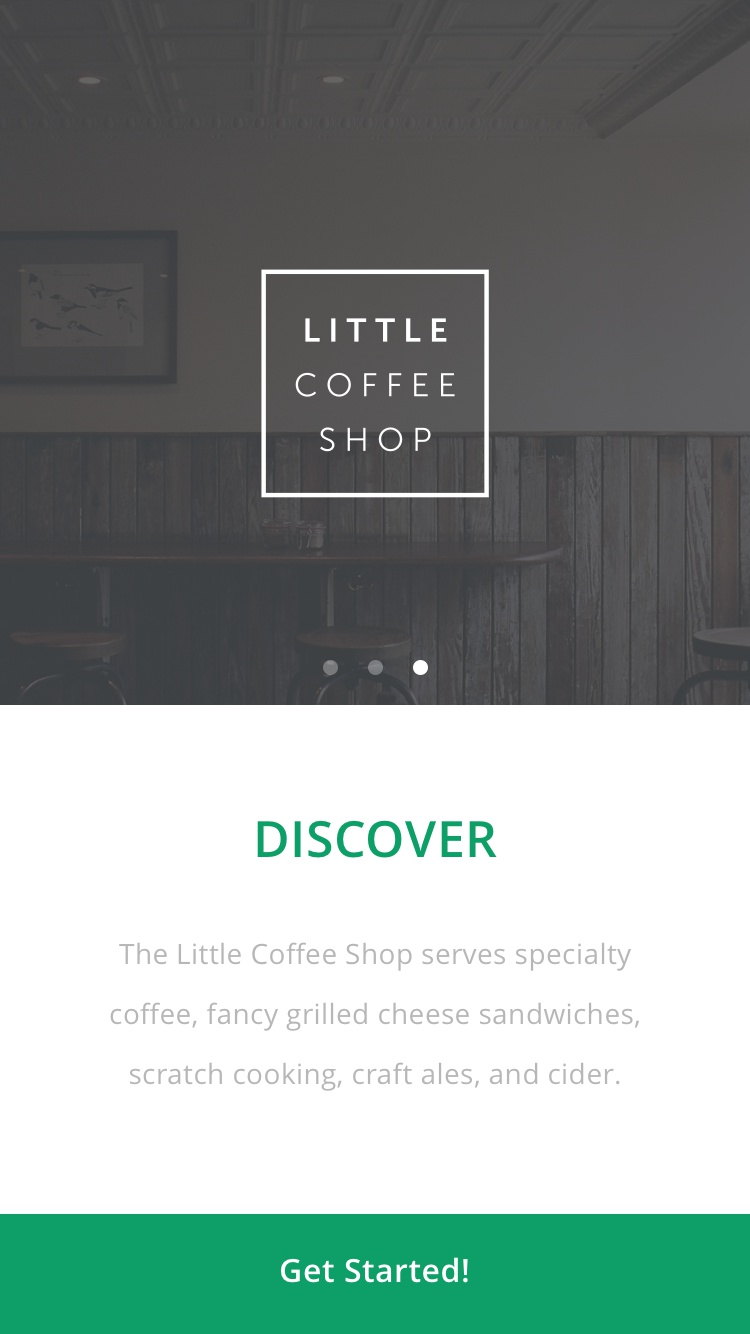Image: (1, 1, 750, 706), (261, 269, 490, 499)
PageIndicator: (323, 659, 430, 677)
Text: (110, 942, 640, 1092), (257, 821, 497, 859)
TextButton: (1, 1214, 750, 1334)
